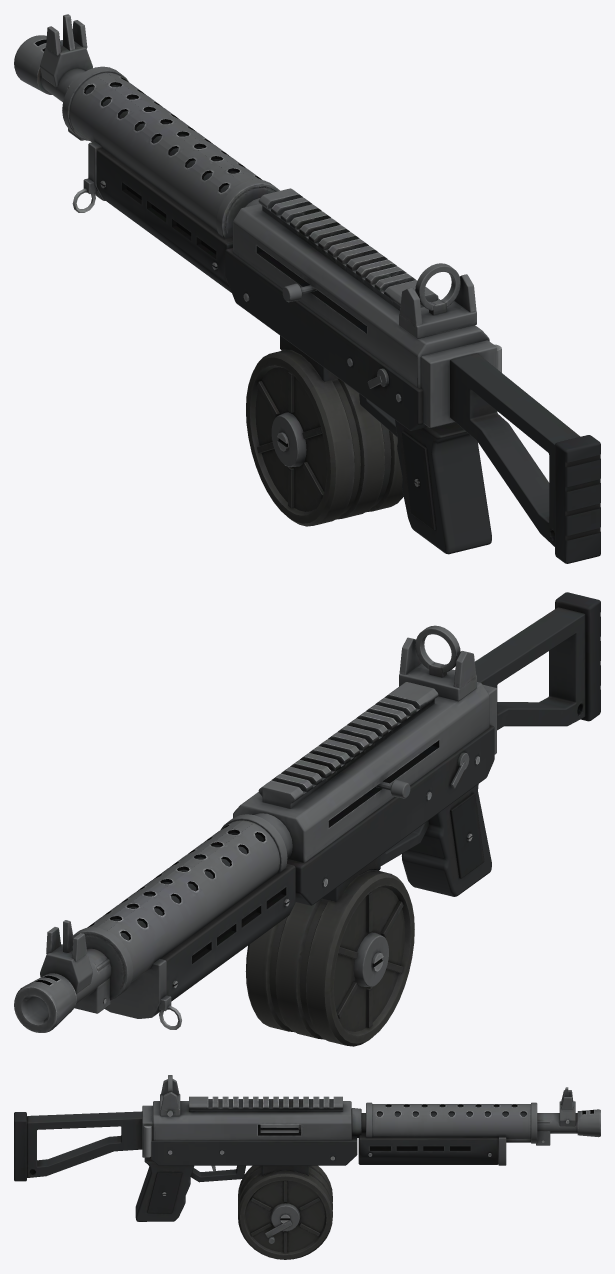
File: striker-fp.glb
The picture shows the model from 3 angles, top to bottom: view 1: azimuth 30°, elevation 25°; view 2: azimuth 150°, elevation 25°; view 3: azimuth 270°, elevation 25°; orthographic projection. The views are drawn at different scales.
Parts seen in each view (by area): view 1: shotgun, mag-mesh; view 2: shotgun, mag-mesh; view 3: shotgun, mag-mesh, bolt-mesh.
Part boxes in pixels (x1,y1,x2,y2): shotgun: (14, 14, 600, 563); mag-mesh: (246, 350, 403, 526); shotgun: (14, 592, 600, 1032); mag-mesh: (245, 870, 414, 1046); shotgun: (14, 1075, 600, 1221); mag-mesh: (238, 1165, 332, 1259); bolt-mesh: (260, 1124, 298, 1132).
Bounding box in the file's own units: 0.1214 × 0.3262 × 1.
1 material, 1 textured.
